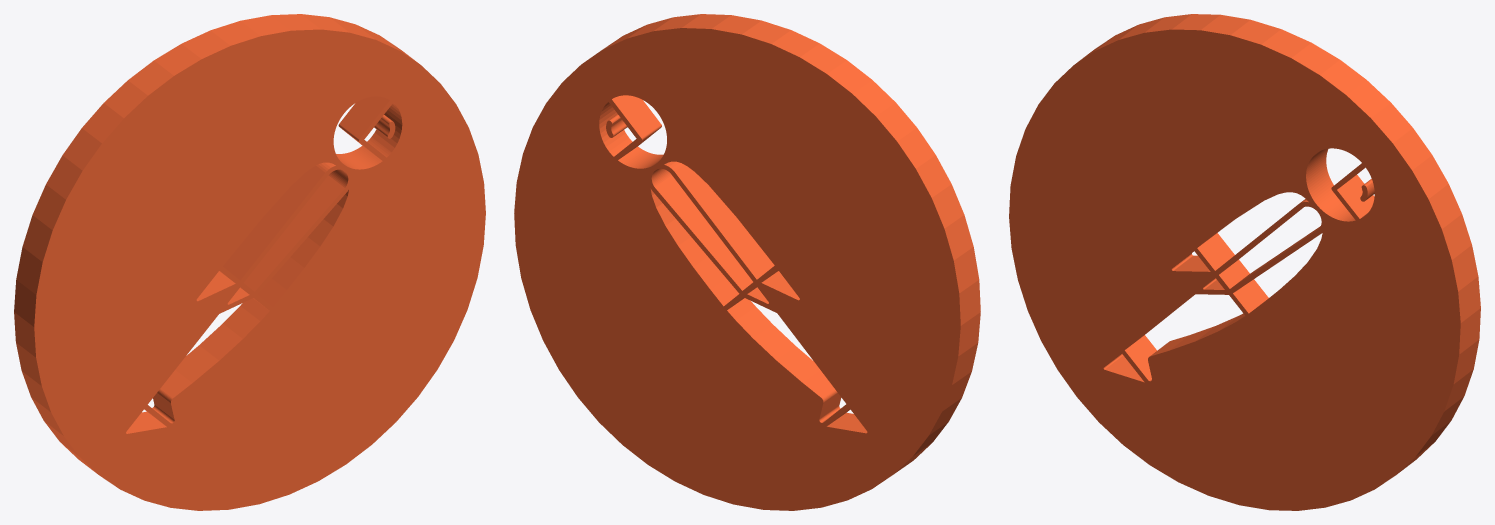
File: Postman_model.glb
3 views of the same model, side by side, from view 1: azimuth 30°, elevation 25°; view 2: azimuth 150°, elevation 25°; view 3: azimuth 330°, elevation 25° (orthographic).
Parts seen in each view (by area): view 1: Curve; view 2: Curve; view 3: Curve.
Part boxes in pixels (x1,y1,x2,y2): Curve: (14,14,485,510); Curve: (514,14,980,510); Curve: (1009,14,1480,510).
Size of the model in its own units: 0.6773 by 0.678 by 0.0653.
